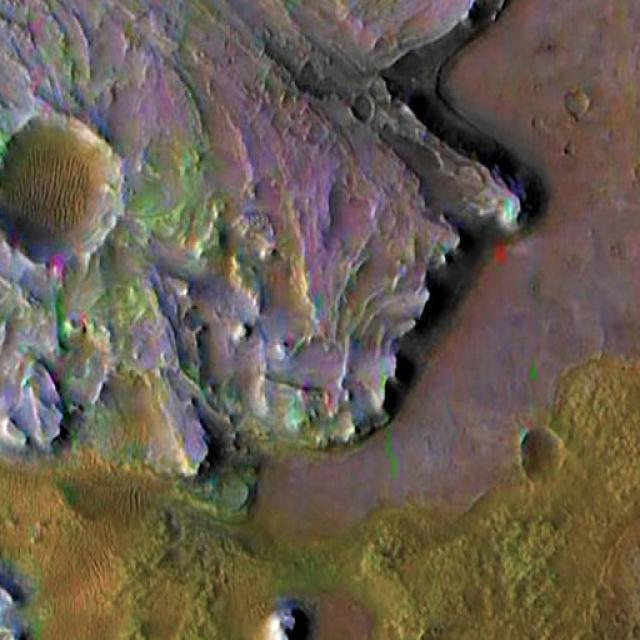Crater: (0, 109, 132, 277), (518, 423, 568, 485)
